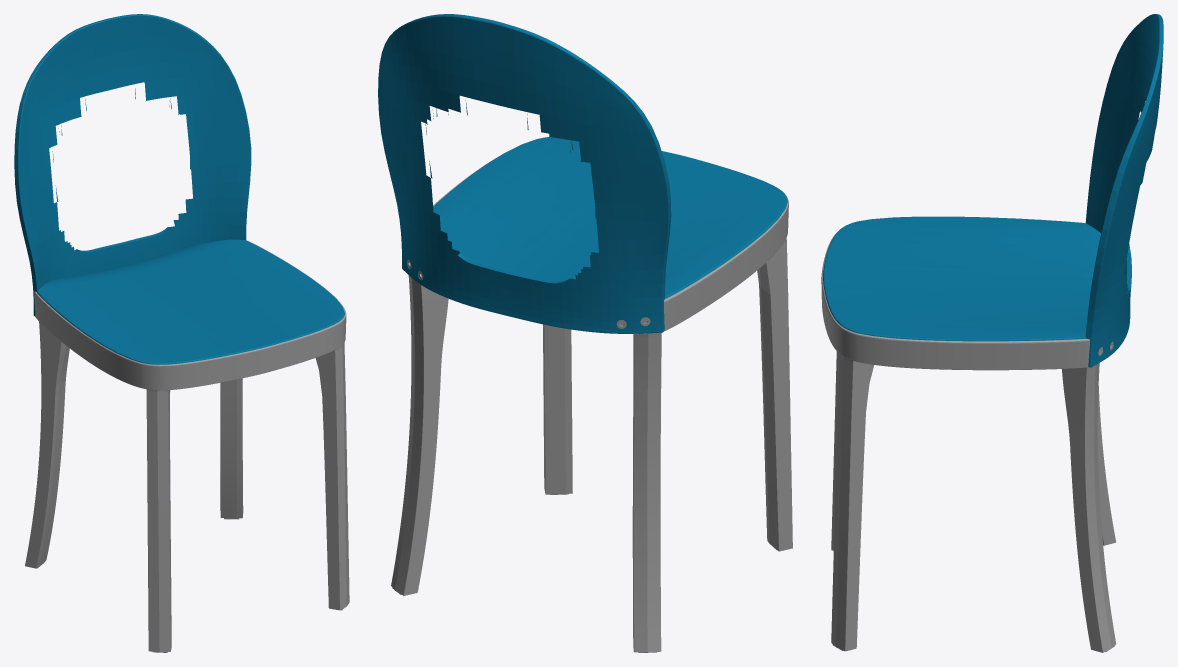
Rendered from st61FRIDAY.obj.
The picture shows the model from 3 angles, left to right: view 1: azimuth 30°, elevation 25°; view 2: azimuth 150°, elevation 25°; view 3: azimuth 270°, elevation 25°; orthographic projection. The views are drawn at different scales.
Visible parts, largest first — view 1: backrest, seat, frameLegs, frameRim; view 2: backrest, frameLegs, seat, frameRim; view 3: seat, frameLegs, backrest, frameRim.
Boxes of the visible parts, <box> form: backrest: <box>14,14,251,316</box>; seat: <box>36,239,344,364</box>; frameLegs: <box>25,322,349,652</box>; frameRim: <box>34,240,346,390</box>; backrest: <box>378,14,671,333</box>; frameLegs: <box>391,238,792,652</box>; seat: <box>433,137,787,298</box>; frameRim: <box>433,160,788,333</box>; seat: <box>823,216,1128,341</box>; frameLegs: <box>831,351,1116,652</box>; backrest: <box>1085,14,1163,367</box>; frameRim: <box>821,233,1090,370</box>.
Bounding box in the file's own units: 0.4069 × 0.8443 × 0.4626.
